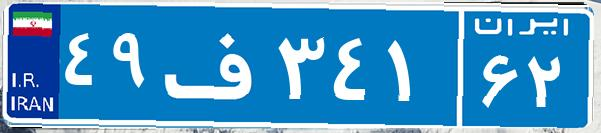1: (385, 28, 445, 110)
2: (525, 38, 570, 115)
3: (273, 28, 330, 110)
4: (330, 28, 385, 110), (57, 26, 110, 107)
6: (475, 38, 525, 113)
9: (110, 28, 158, 105)
ف: (158, 15, 273, 115)
